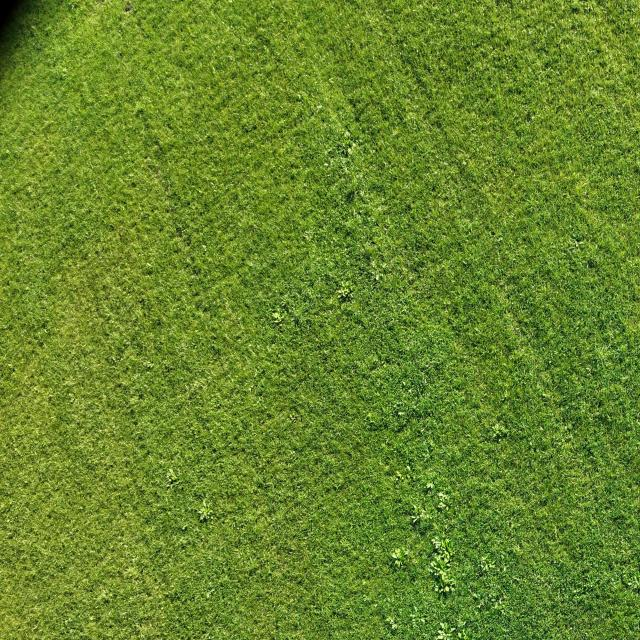rumex: (486, 354, 590, 496), (154, 224, 222, 296), (165, 7, 187, 73), (326, 129, 360, 168), (424, 614, 467, 640), (140, 160, 169, 197), (409, 493, 434, 526), (385, 401, 410, 426), (431, 490, 451, 516), (434, 536, 455, 560), (150, 136, 169, 162), (433, 552, 453, 576), (434, 578, 453, 594), (492, 422, 508, 439), (342, 188, 357, 206), (198, 507, 213, 522), (478, 558, 492, 574), (583, 1, 598, 15), (397, 546, 411, 560), (429, 560, 442, 574), (339, 287, 353, 300), (134, 107, 146, 122), (166, 467, 177, 483), (174, 224, 185, 240), (386, 614, 398, 628), (586, 257, 598, 271), (439, 586, 449, 602), (423, 484, 436, 496), (272, 311, 284, 324), (430, 538, 442, 551), (208, 58, 216, 76), (394, 557, 405, 570), (438, 622, 448, 636), (127, 396, 139, 407), (292, 316, 302, 329), (183, 233, 192, 247), (192, 381, 204, 391), (411, 514, 421, 526), (4, 499, 14, 510), (68, 2, 78, 13), (391, 550, 401, 561), (59, 67, 68, 79), (371, 262, 378, 277), (457, 153, 467, 163), (493, 601, 503, 611), (144, 266, 154, 276), (110, 354, 119, 365), (6, 529, 15, 540), (144, 360, 154, 369), (315, 103, 324, 113), (472, 590, 481, 600), (368, 362, 378, 371), (393, 472, 402, 481), (570, 239, 579, 248), (571, 5, 580, 14), (343, 129, 351, 139), (405, 465, 413, 475), (502, 390, 510, 400), (570, 244, 580, 252), (281, 302, 289, 312), (232, 192, 240, 202), (494, 423, 502, 432), (288, 449, 296, 458), (30, 25, 38, 34), (288, 413, 296, 422), (390, 129, 398, 138), (362, 593, 370, 602), (31, 624, 39, 633), (360, 188, 367, 198), (207, 589, 214, 599), (253, 368, 259, 379), (41, 319, 47, 330), (635, 165, 640, 178), (68, 396, 76, 404), (403, 185, 411, 193), (296, 92, 303, 101), (461, 159, 468, 168), (374, 274, 381, 283), (267, 343, 273, 353), (303, 233, 310, 241), (146, 260, 153, 268), (496, 235, 503, 243), (166, 122, 173, 130), (542, 392, 550, 399), (88, 616, 95, 624), (204, 632, 212, 639), (248, 385, 254, 394), (252, 486, 258, 495), (592, 89, 599, 96), (182, 524, 188, 532), (242, 182, 248, 190), (202, 244, 208, 252), (576, 240, 584, 246), (184, 383, 190, 391), (425, 64, 431, 72), (259, 27, 265, 34), (441, 161, 448, 167), (124, 341, 130, 348), (582, 189, 588, 196), (118, 51, 124, 58), (203, 499, 208, 507), (328, 78, 334, 84), (228, 442, 234, 448), (323, 162, 330, 167), (556, 68, 560, 76), (229, 54, 234, 60), (5, 148, 10, 154), (43, 299, 47, 306)
